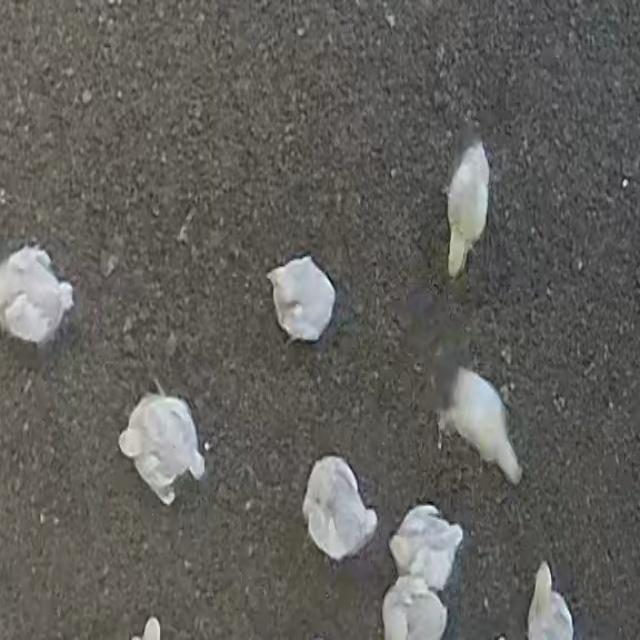chicken: (433, 361, 526, 488), (118, 382, 204, 502), (303, 457, 379, 561), (0, 246, 75, 346), (261, 256, 337, 346), (446, 140, 492, 276), (388, 505, 464, 585), (380, 581, 453, 640), (527, 562, 577, 640)
